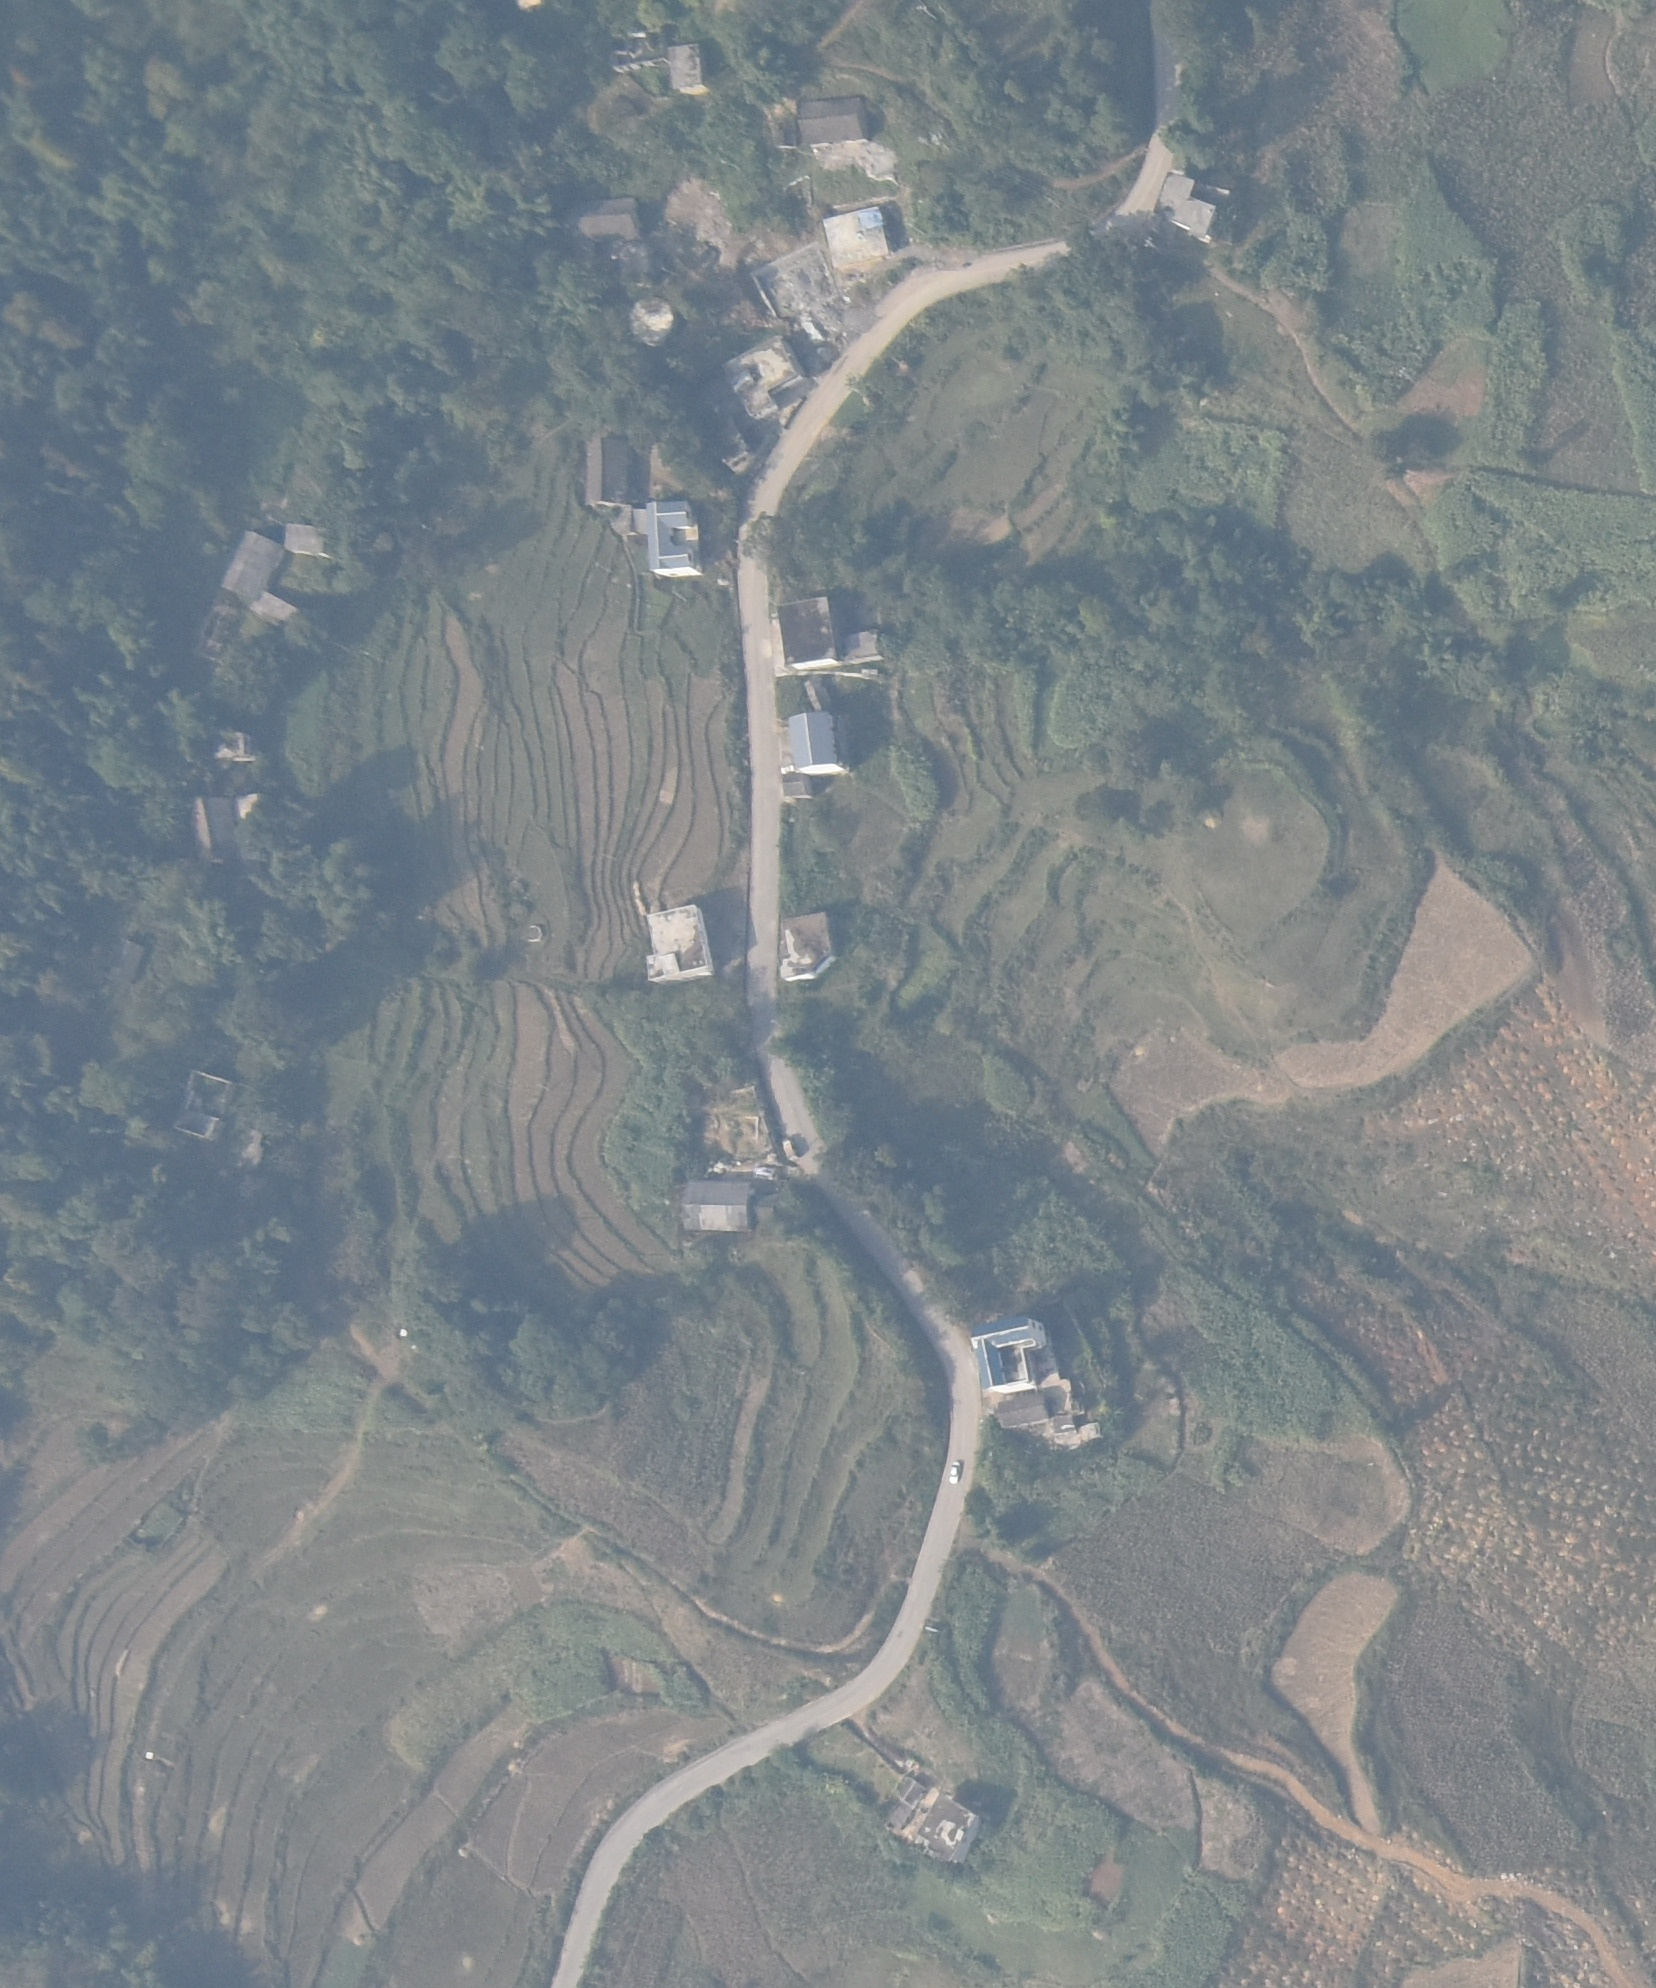building: (708, 329, 812, 424), (890, 1780, 996, 1871), (637, 902, 722, 986), (571, 424, 642, 517), (816, 196, 900, 274), (1151, 167, 1235, 244), (968, 1314, 1047, 1395), (670, 1181, 764, 1245), (642, 499, 713, 580), (771, 905, 835, 984), (779, 589, 839, 675), (221, 523, 281, 603), (774, 712, 850, 773), (560, 192, 642, 248), (797, 84, 867, 144), (183, 793, 234, 849), (664, 35, 708, 97), (106, 936, 152, 986), (837, 621, 883, 669), (210, 722, 259, 763), (249, 591, 302, 626), (284, 522, 329, 558), (778, 778, 812, 799)
vehicle: (944, 1455, 963, 1484)
well: (627, 296, 679, 350), (992, 1400, 1052, 1430)
